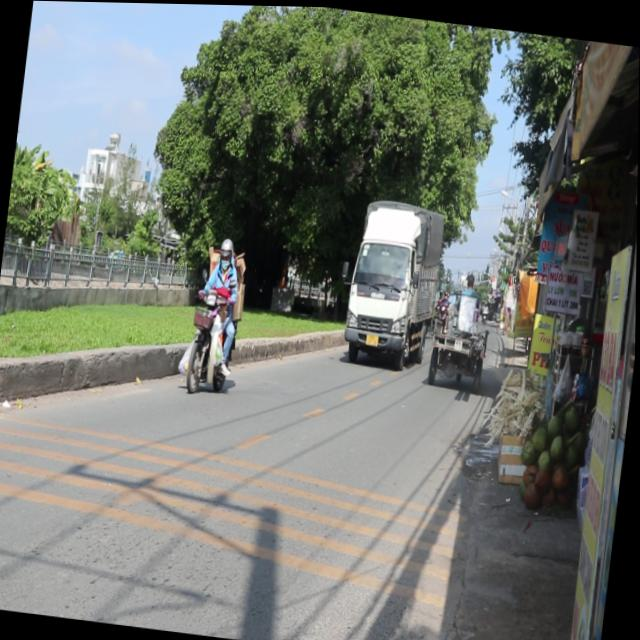helmet: (216, 234, 233, 267)
licenseplate: (174, 228, 249, 396)
